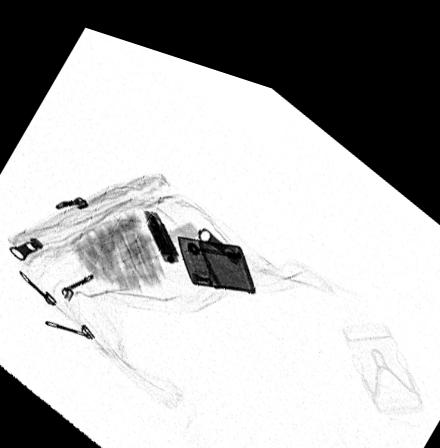Lighter: (177, 224, 256, 277)
